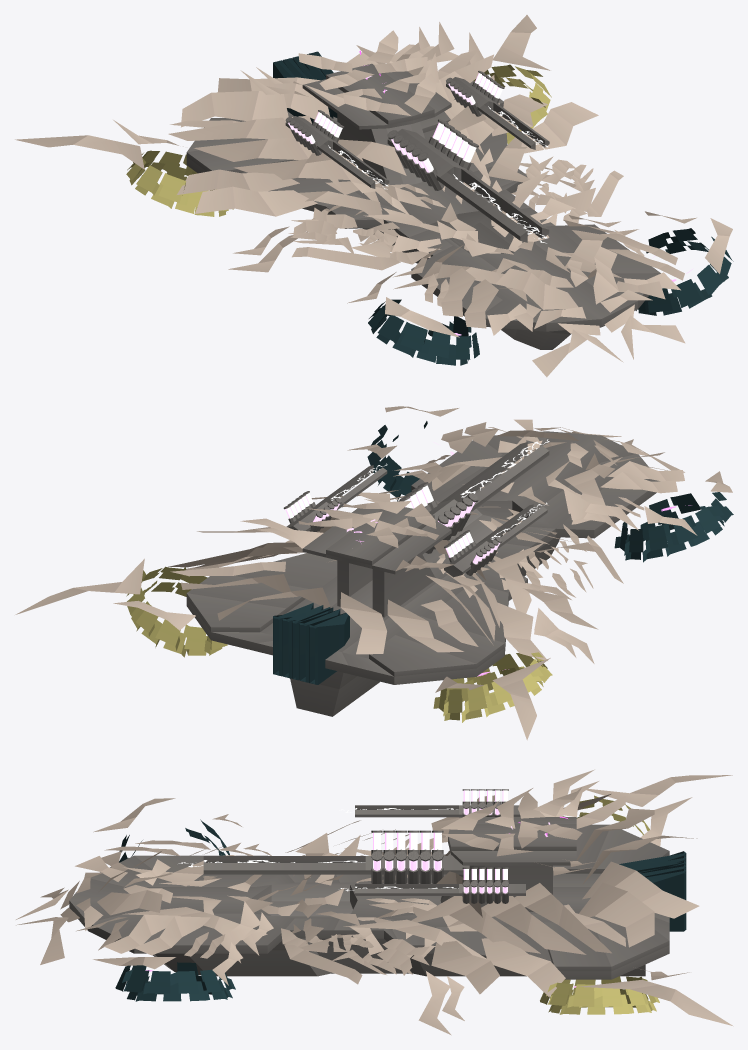
File: EnemyGaleon.fbx
3 views of the same model, one above another, from view 1: azimuth 30°, elevation 25°; view 2: azimuth 150°, elevation 25°; view 3: azimuth 270°, elevation 25° (orthographic).
Parts seen in each view (by area): view 1: Cube.024, Cube.019, Cube.009, Cube.020, Plane.030; view 2: Cube.009, Cube.024, Cube.019, Plane.030, Cube.020; view 3: Cube.009, Cube.024, Cube.019, Cube.020, Plane.030.
Boxes of the visible parts, x1,y1,x2,y2 form: Cube.024: [168, 30, 684, 328]; Cube.019: [15, 15, 732, 377]; Cube.009: [186, 51, 660, 349]; Cube.020: [285, 70, 549, 243]; Plane.030: [126, 64, 733, 365]; Cube.009: [186, 431, 659, 716]; Cube.024: [168, 422, 684, 660]; Cube.019: [15, 406, 732, 740]; Plane.030: [126, 421, 733, 722]; Cube.020: [283, 439, 549, 577]; Cube.009: [69, 817, 686, 979]; Cube.024: [97, 787, 699, 996]; Cube.019: [16, 769, 733, 1035]; Cube.020: [178, 789, 525, 903]; Plane.030: [115, 795, 659, 1014].
Bounding box in the file's own units: 14.53 × 4.25 × 17.59.
